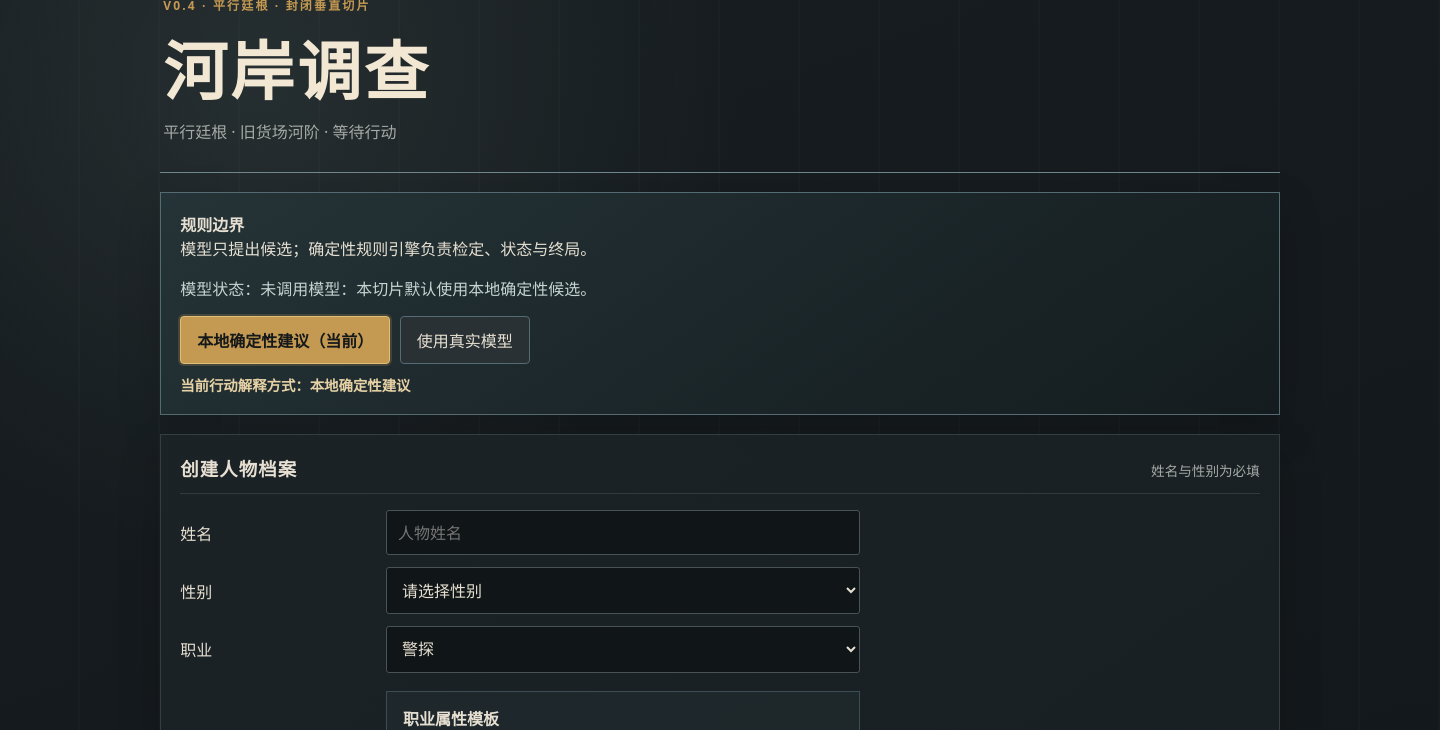
it: V0.4 平行廷根可见切片 › 灵性直觉在同一调查链中解锁沿水痕继续追踪的额外行动
Type "额外行动测试员" into the field labelled "姓名". click: (623, 533)
box: [386,510,860,555]
Select "男性" in the dropdown labelled "性别". click: (623, 591)
box: [386,567,860,614]
(page scrolled)
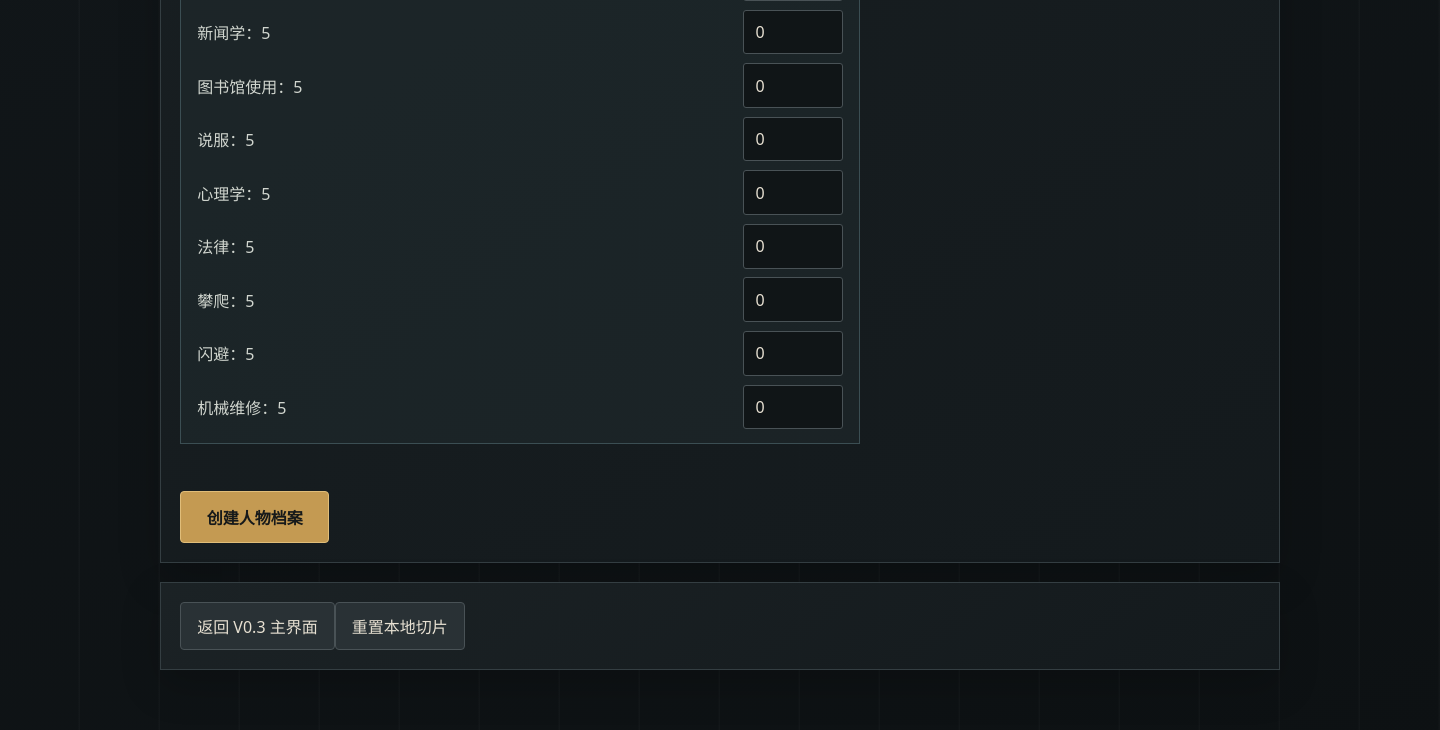
Click the button "创建人物档案". click: (255, 517)
box: [180,491,329,543]
(page scrolled)
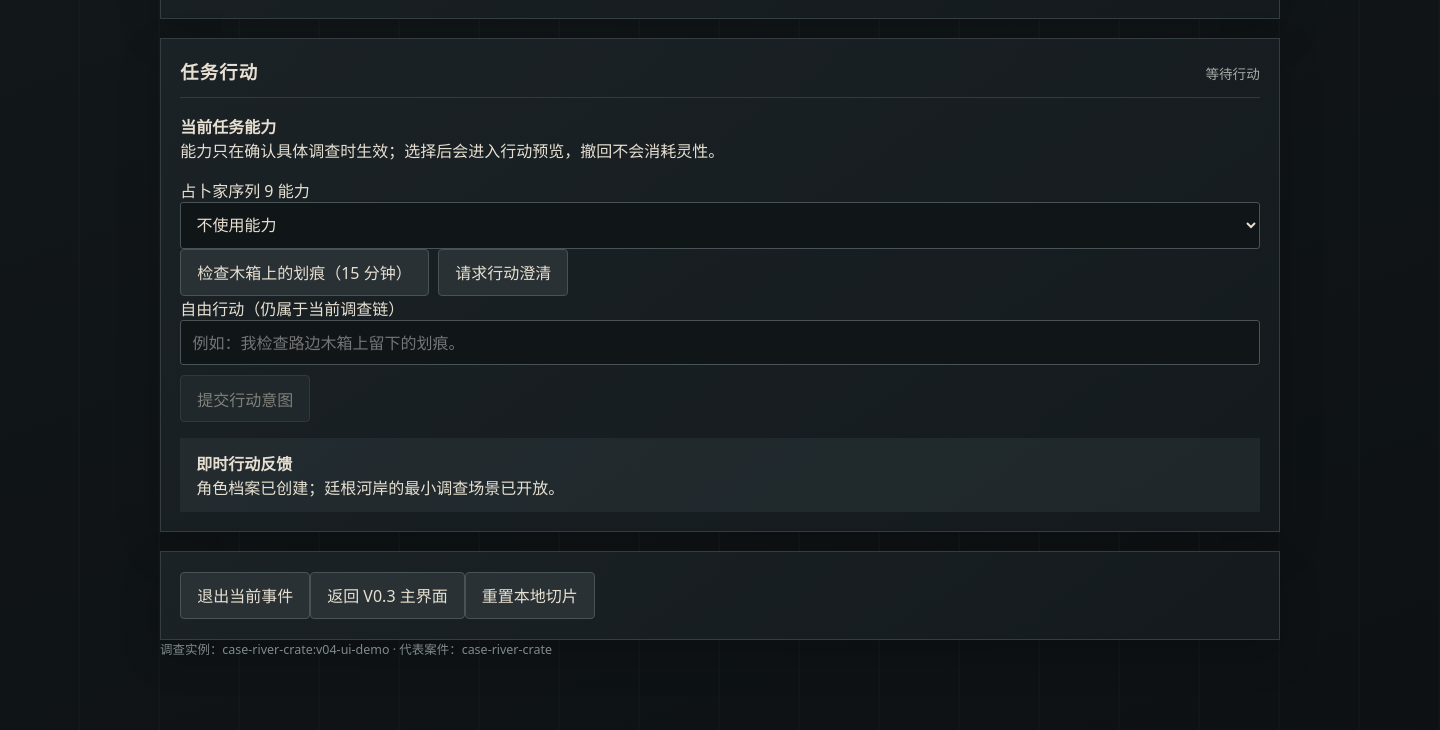
Select "灵性直觉（消耗 1 点灵性，解锁额外追踪入口）" in the dropdown labelled "占卜家序列 9 能力". click: (720, 225)
box: [180,202,1260,249]
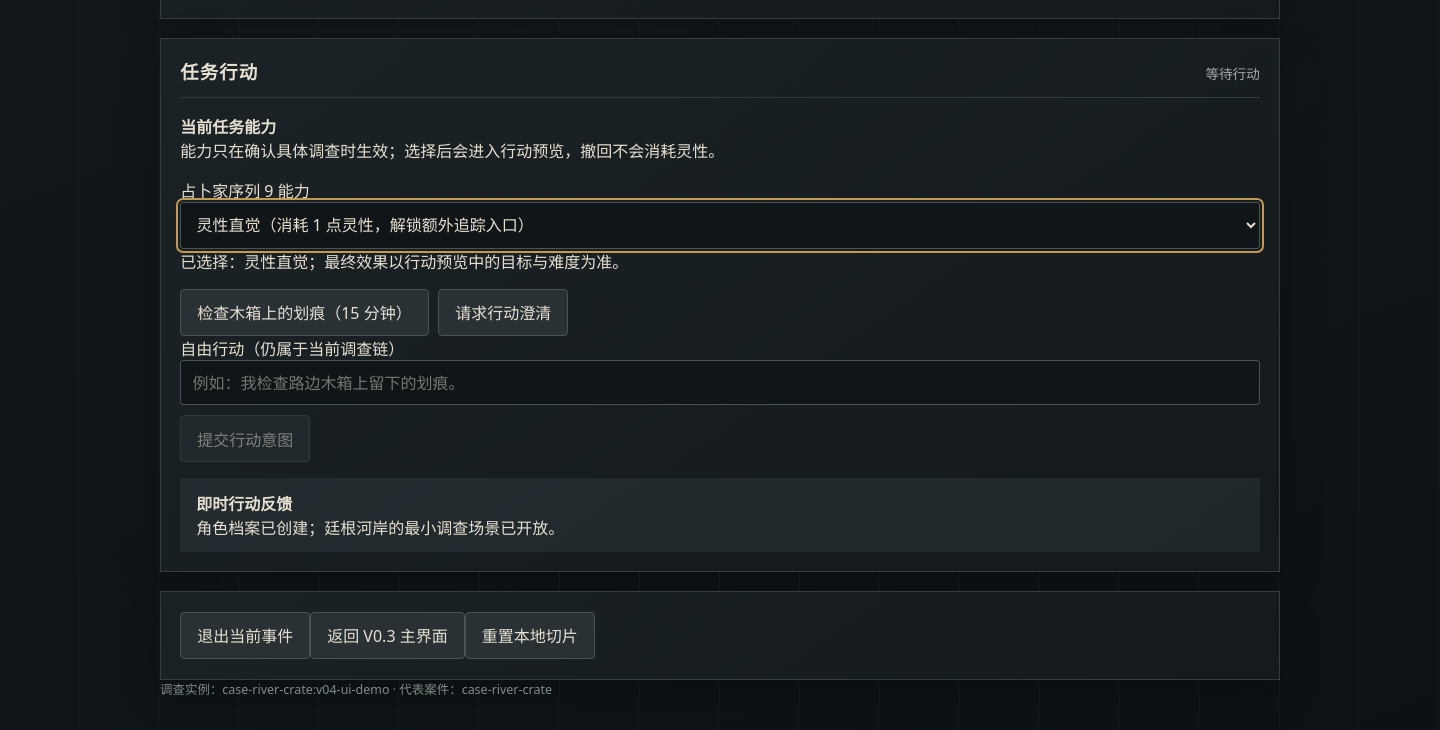
Click the button "检查木箱上的划痕（15 分钟）". click: (304, 312)
box: [180,288,429,336]
(page scrolled)
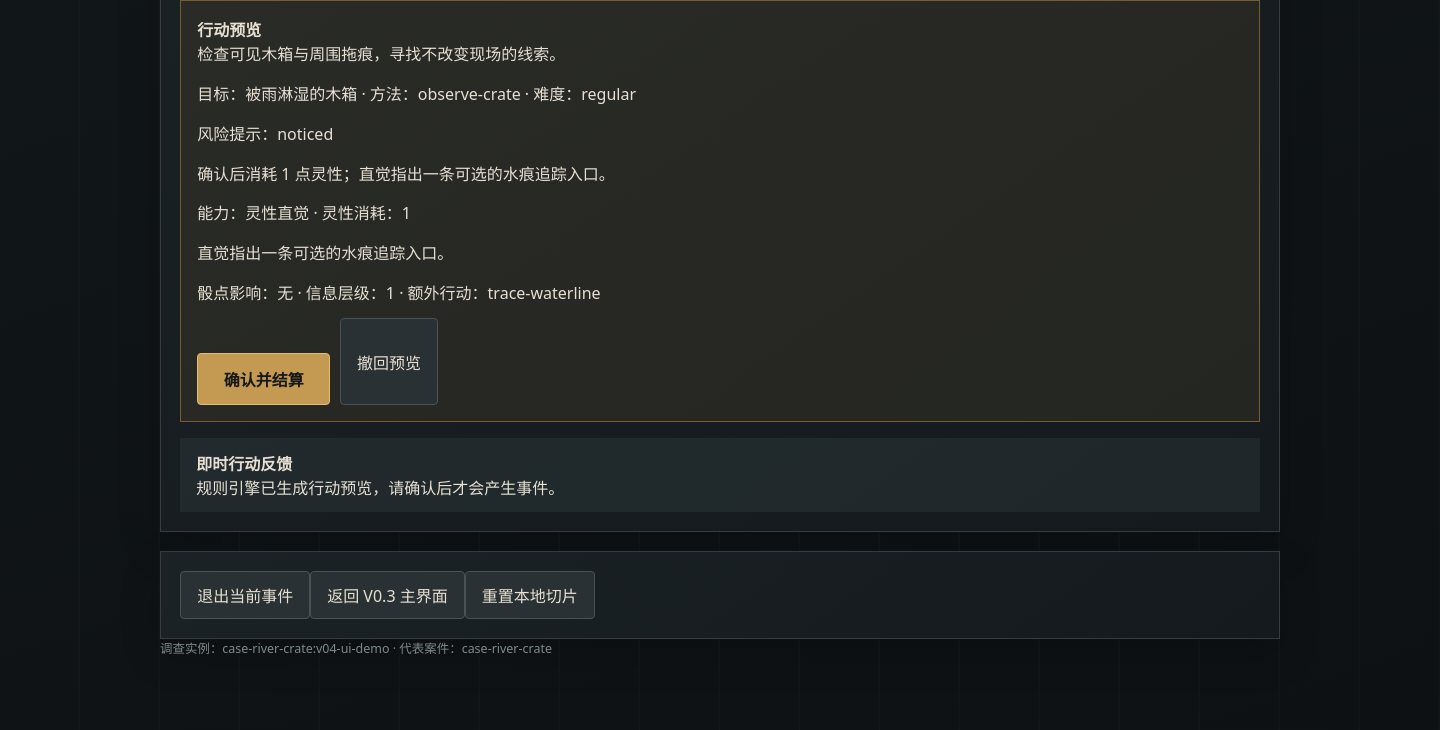
Click the button "确认并结算". click: (264, 379)
box: [197,353,330,405]
(page scrolled)
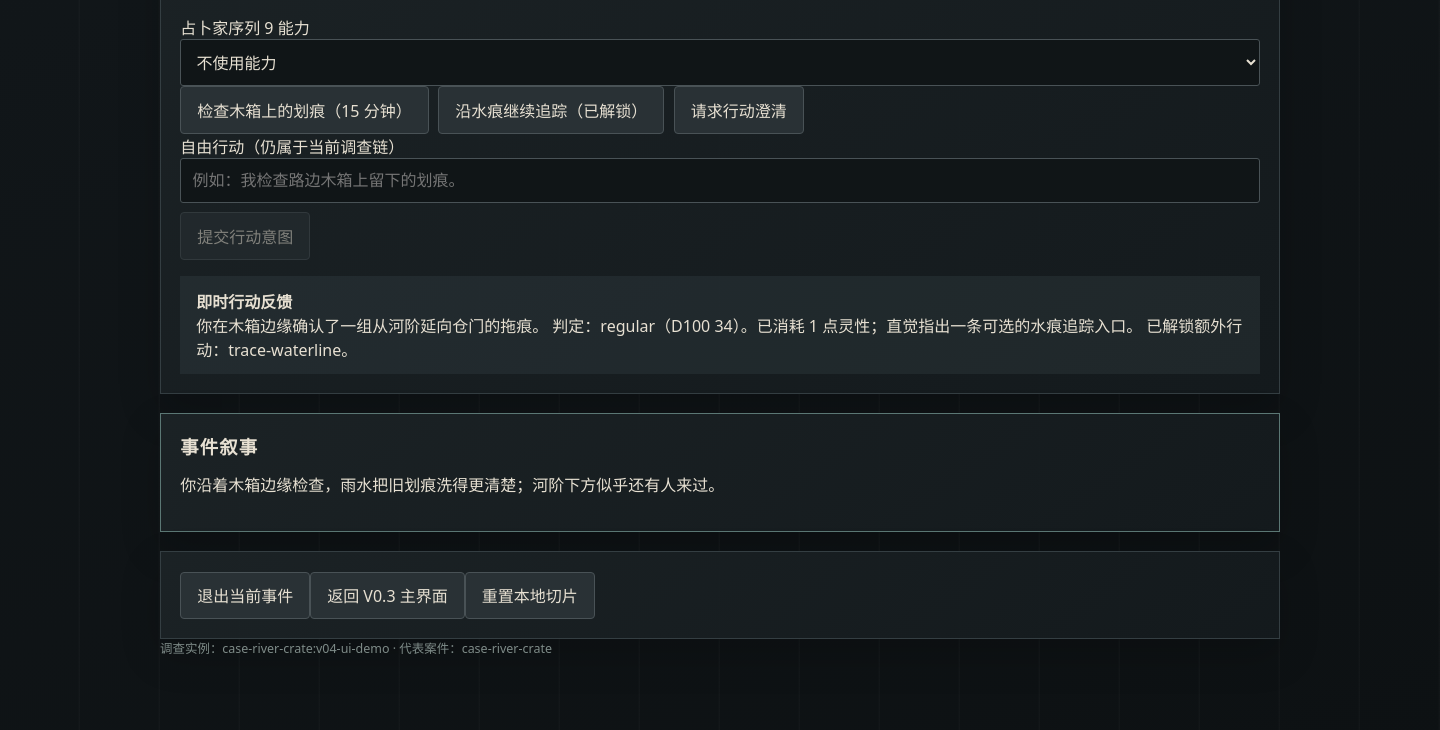
expect the text "已解锁额外行动：trace-waterline" is shown: met, box [196,315,1242,361]
expect the button "沿水痕继续追踪（已解锁）" is shown: met
Click the button "沿水痕继续追踪（已解锁）". click: (551, 110)
box: [438,86,664,134]
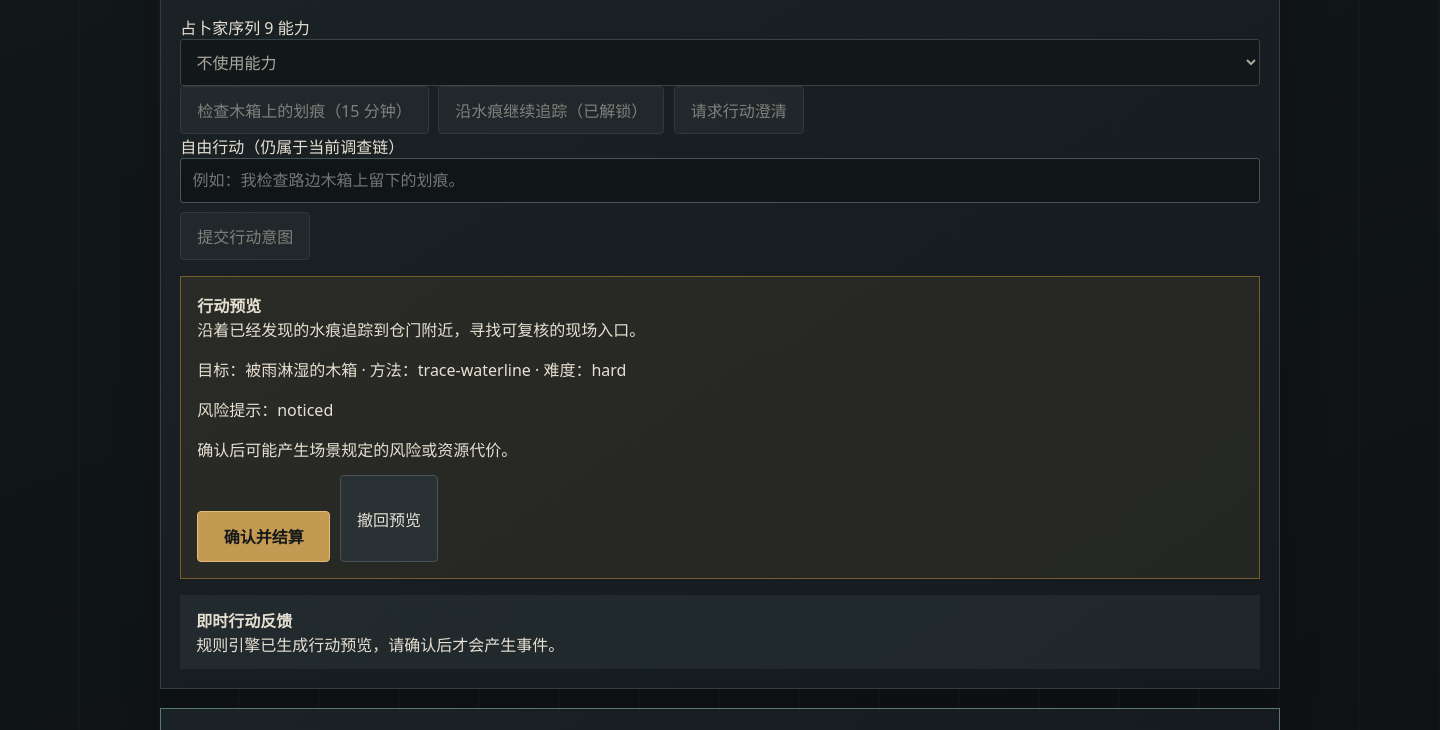
expect the text "沿着已经发现的水痕追踪到仓门附近，寻找可复核的现场入口。" is shown: met, box [197,319,645,341]
